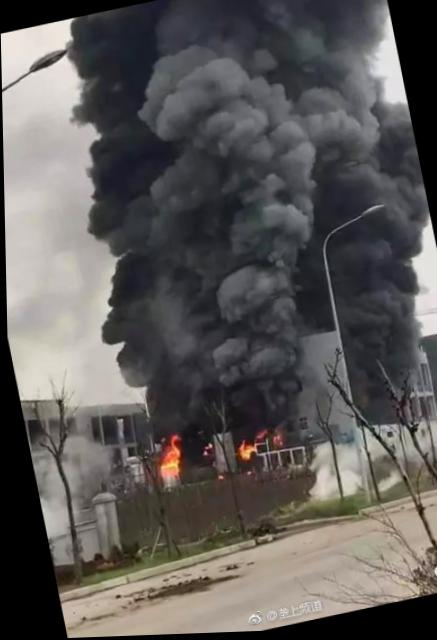fire: (150, 435, 182, 476), (230, 441, 254, 463)
